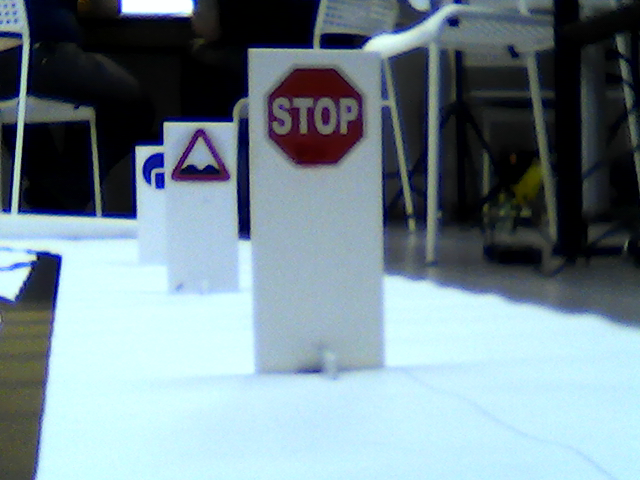Nerov: (169, 127, 232, 184)
Stop: (262, 63, 365, 167)
